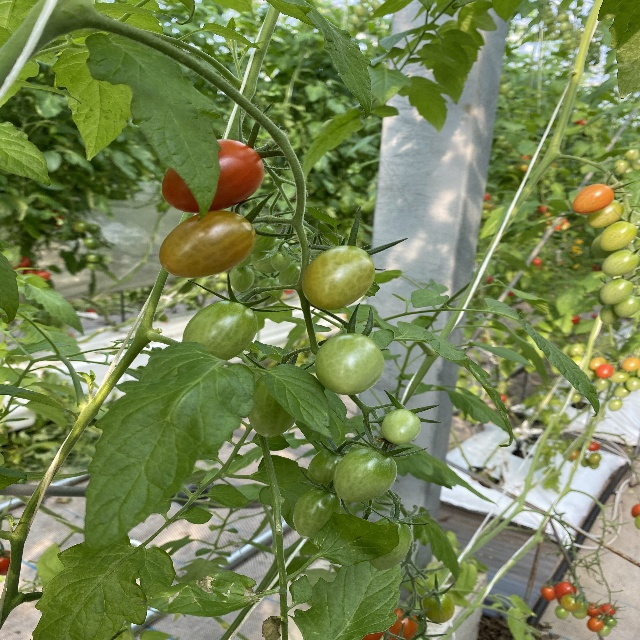l_fully_ripened: (161, 139, 264, 214)
l_green: (300, 246, 376, 311), (183, 300, 258, 361), (316, 333, 385, 395), (334, 447, 397, 502), (248, 374, 298, 438), (366, 517, 412, 571), (292, 489, 342, 538), (307, 448, 350, 492), (381, 409, 421, 445), (251, 239, 293, 272), (421, 591, 456, 624), (600, 220, 637, 251), (586, 199, 622, 229), (601, 249, 639, 276), (598, 277, 633, 305), (250, 221, 276, 254), (259, 277, 285, 304), (228, 267, 254, 293), (278, 260, 302, 287), (613, 294, 640, 318), (599, 304, 621, 325), (270, 253, 291, 271)
l_half_ripened: (160, 211, 257, 278), (572, 183, 615, 214), (383, 606, 418, 640)
